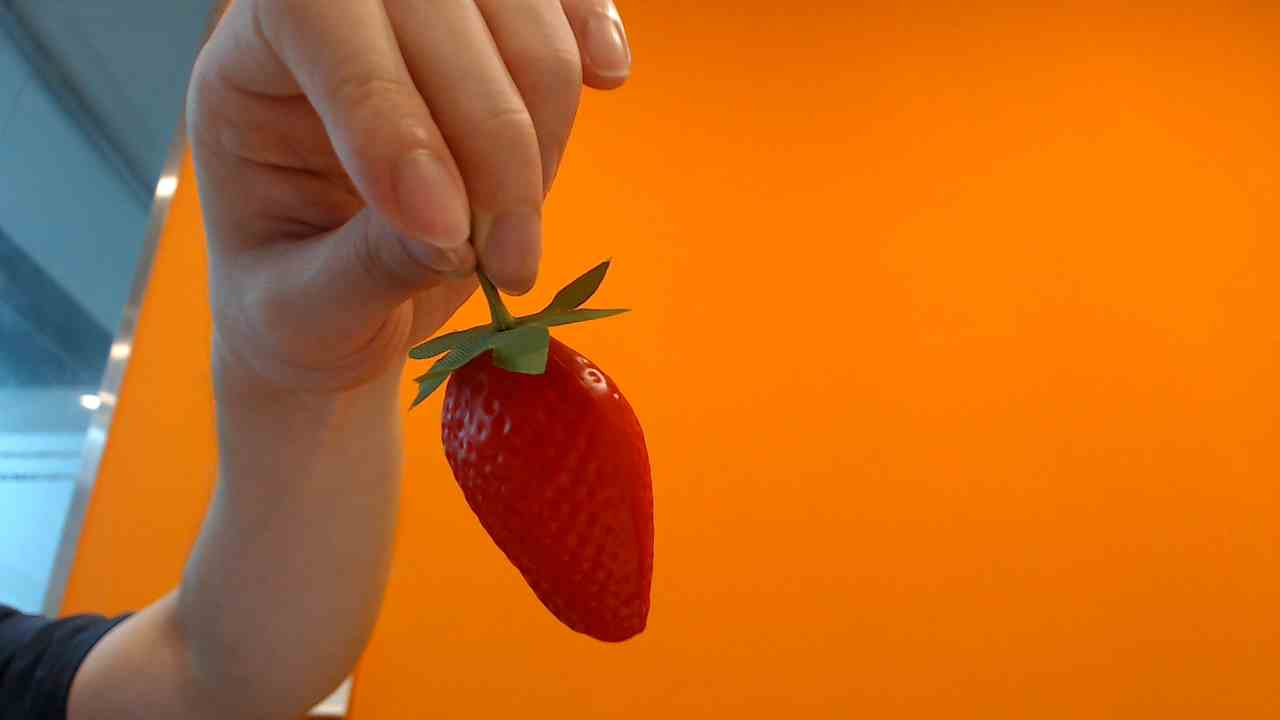strawberry: (431, 305, 654, 639)
